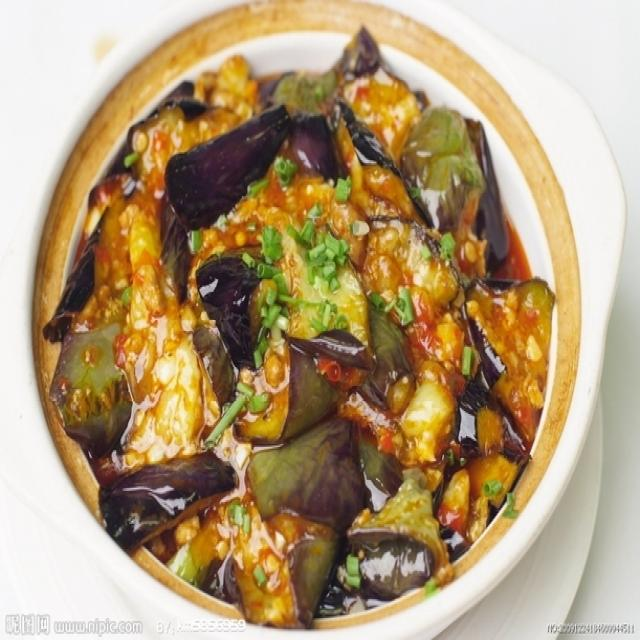鸡蛋料理: (14, 17, 599, 626)
